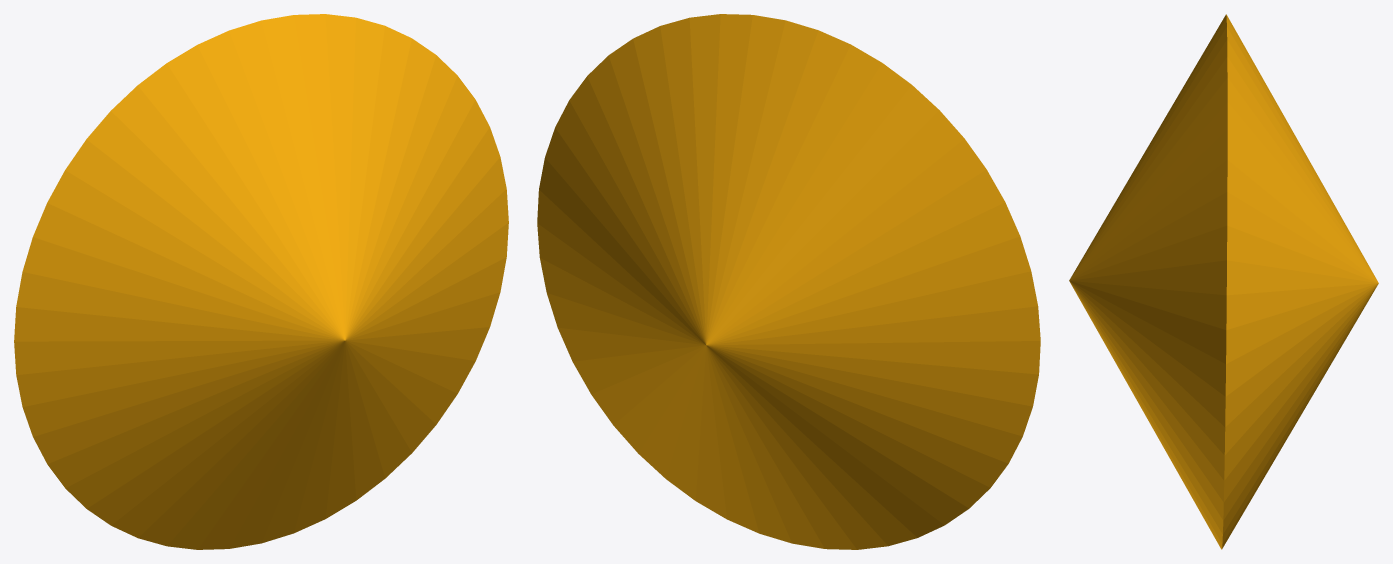
The model's file is doubleCone.fbx.
The picture shows the model from 3 angles, left to right: view 1: azimuth 30°, elevation 25°; view 2: azimuth 150°, elevation 25°; view 3: azimuth 270°, elevation 25°; orthographic projection. The views are drawn at different scales.
Visible parts, largest first — view 1: Group1; view 2: Group1; view 3: Group1.
Boxes of the visible parts, left/top/right/bottom form: Group1: left=14, top=14, right=508, bottom=549; Group1: left=537, top=14, right=1040, bottom=549; Group1: left=1069, top=14, right=1378, bottom=549.
Bounding box in the file's own units: 222 × 222 × 128.
